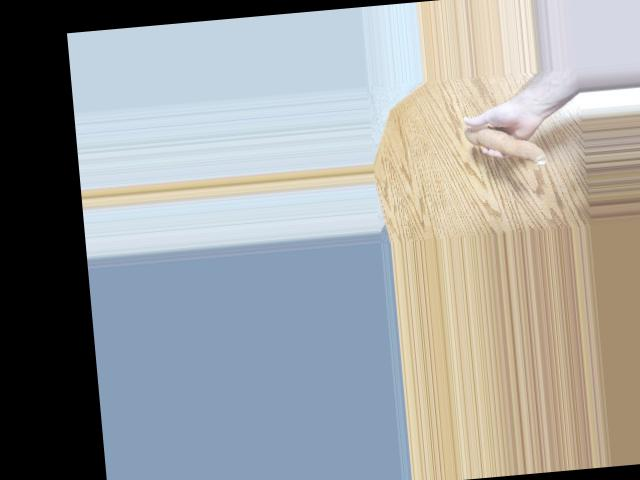sweet_potato: (460, 122, 548, 170)
